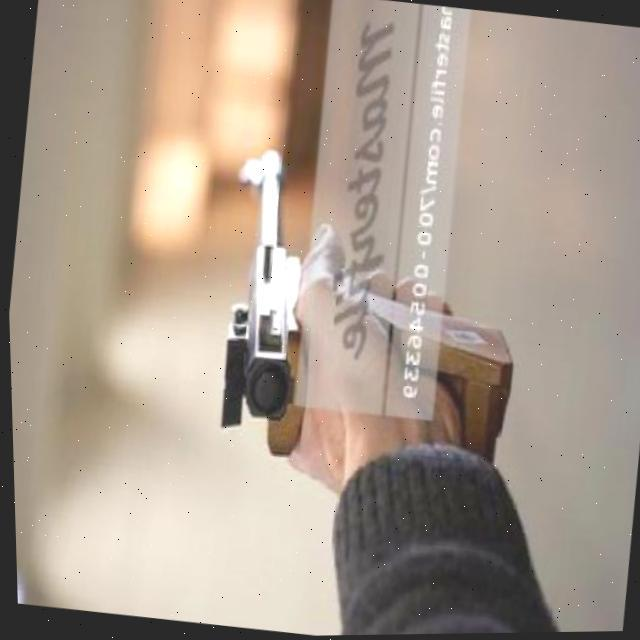gun: (182, 120, 536, 508)
